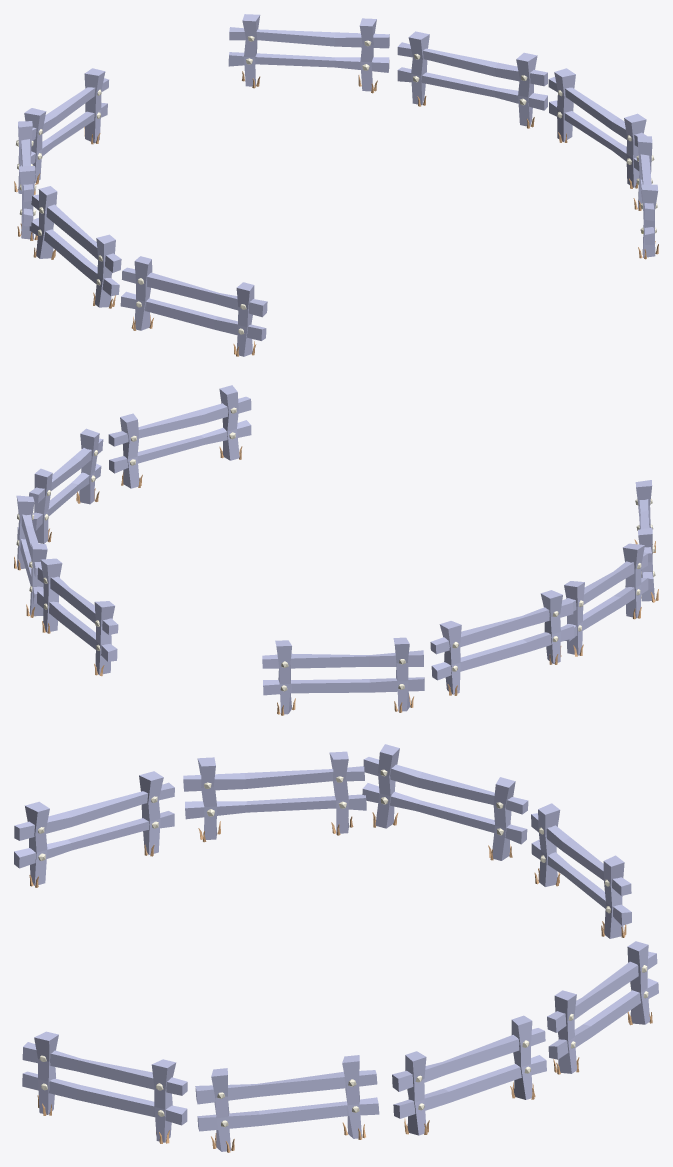
The model's file is fence-purple.gltf.
3 renders of one model, top to bottom at view 1: azimuth 30°, elevation 25°; view 2: azimuth 150°, elevation 25°; view 3: azimuth 270°, elevation 25°, orthographic. The views are drawn at different scales.
Parts seen in each view (by area): view 1: Cube.034, Cube.038, Cube.031, Cube.035, Cube.029, Cube.037, Cube.030, Cube.036; view 2: Cube.037, Cube.036, Cube.030, Cube.038, Cube.035, Cube.029, Cube.031, Cube.034; view 3: Cube.029, Cube.030, Cube.031, Cube.035, Cube.036, Cube.034, Cube.038, Cube.037.
Boxes of the visible parts, box(x1,y1,x2,y2) form: Cube.034: box(120, 256, 267, 356); Cube.038: box(228, 14, 389, 93); Cube.031: box(397, 31, 547, 128); Cube.035: box(29, 186, 121, 308); Cube.029: box(548, 68, 651, 188); Cube.037: box(24, 68, 108, 184); Cube.030: box(633, 136, 658, 259); Cube.036: box(14, 121, 37, 240); Cube.037: box(262, 637, 424, 715); Cube.036: box(430, 590, 574, 695); Cube.030: box(108, 385, 251, 488); Cube.038: box(37, 558, 118, 676); Cube.035: box(564, 543, 648, 656); Cube.029: box(29, 428, 103, 543); Cube.031: box(14, 495, 47, 617); Cube.034: box(634, 480, 658, 602); Cube.029: box(195, 1055, 379, 1152); Cube.030: box(22, 1031, 187, 1143); Cube.031: box(392, 1015, 546, 1135); Cube.035: box(183, 751, 366, 842); Cube.036: box(362, 744, 528, 860); Cube.034: box(14, 771, 174, 887); Cube.038: box(547, 941, 658, 1074); Cube.037: box(531, 803, 631, 938).
Size of the model in its own units: 11.31 by 1.81 by 10.04.
